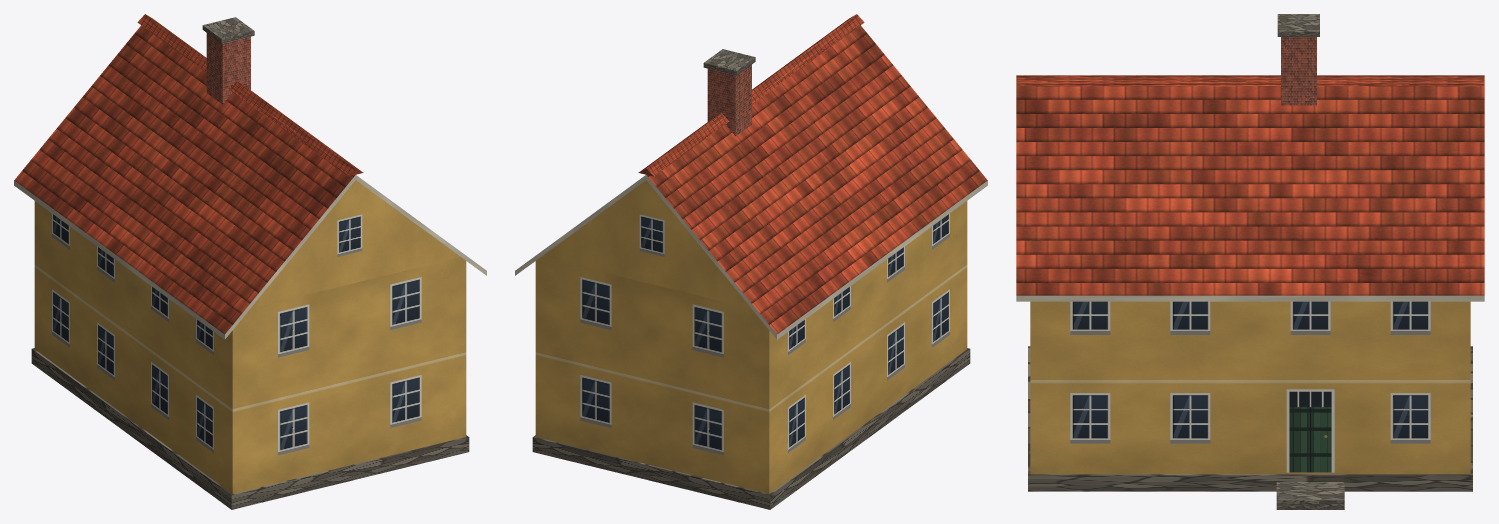
Rendered from SM_TownHouse_Ochre.fbx.
3 renders of one model, left to right at view 1: azimuth 30°, elevation 25°; view 2: azimuth 150°, elevation 25°; view 3: azimuth 270°, elevation 25°, orthographic. The views are drawn at different scales.
Visible parts, largest first — view 1: SM_TownHouse_Ochre; view 2: SM_TownHouse_Ochre; view 3: SM_TownHouse_Ochre.
Boxes of the visible parts, x1=… form: SM_TownHouse_Ochre: x1=14, y1=14, x2=486, y2=509; SM_TownHouse_Ochre: x1=515, y1=14, x2=987, y2=509; SM_TownHouse_Ochre: x1=1016, y1=14, x2=1484, y2=509.
Bounding box in the file's own units: 910 × 1170 × 1114.
1 material, 1 textured.
